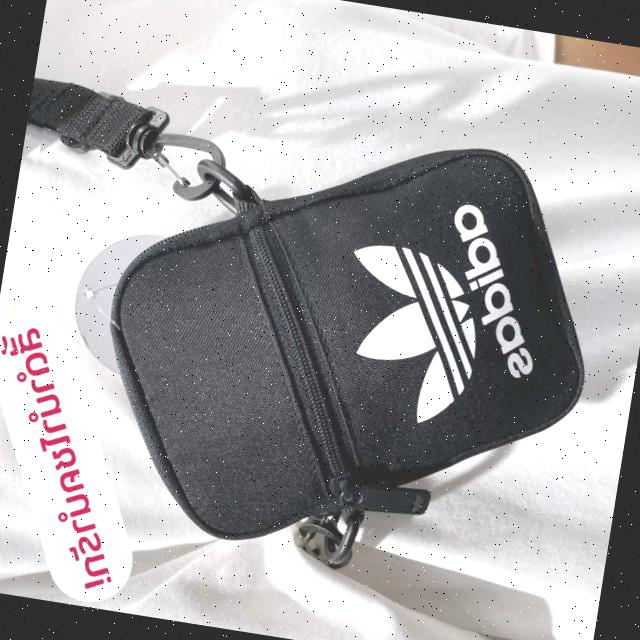handbag: (77, 100, 629, 607)
